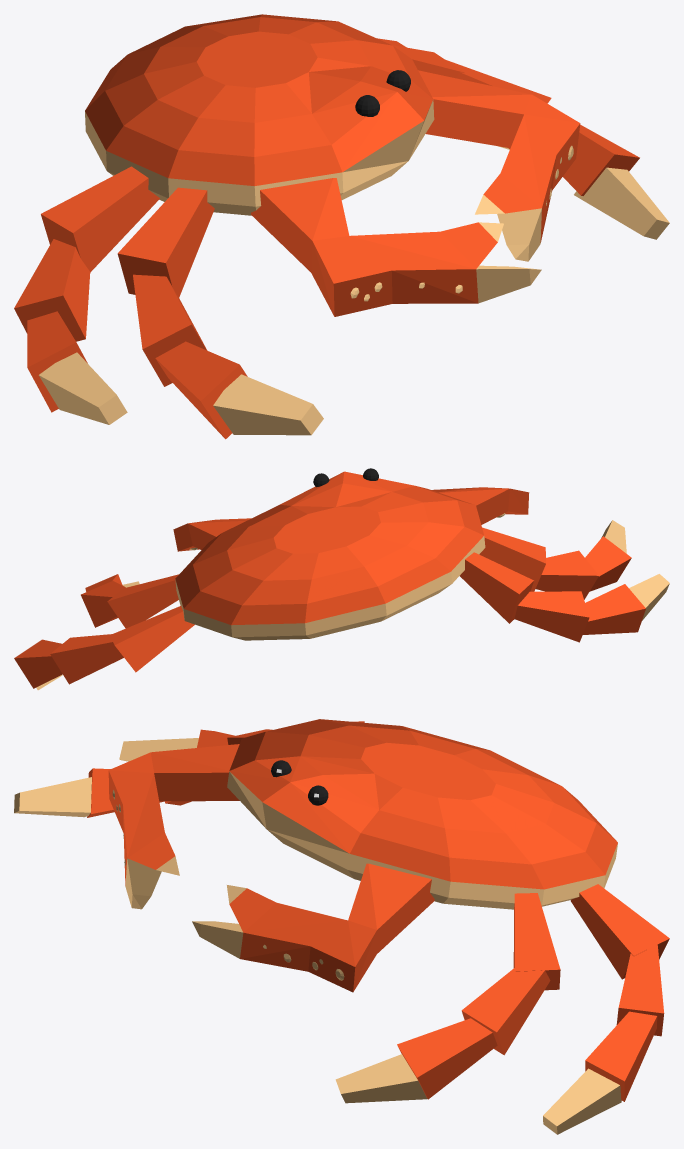
Rendered from Crab.obj.
3 renders of one model, top to bottom at view 1: azimuth 30°, elevation 25°; view 2: azimuth 150°, elevation 25°; view 3: azimuth 270°, elevation 25°, orthographic. The views are drawn at different scales.
Parts seen in each view (by area): view 1: Mesh; view 2: Mesh; view 3: Mesh.
Part boxes in pixels (<box>): Mesh: <box>14,14,669,439</box>; Mesh: <box>14,468,669,690</box>; Mesh: <box>14,719,669,1134</box>.
Bounding box in the file's own units: 1.64 × 0.5779 × 1.5.
